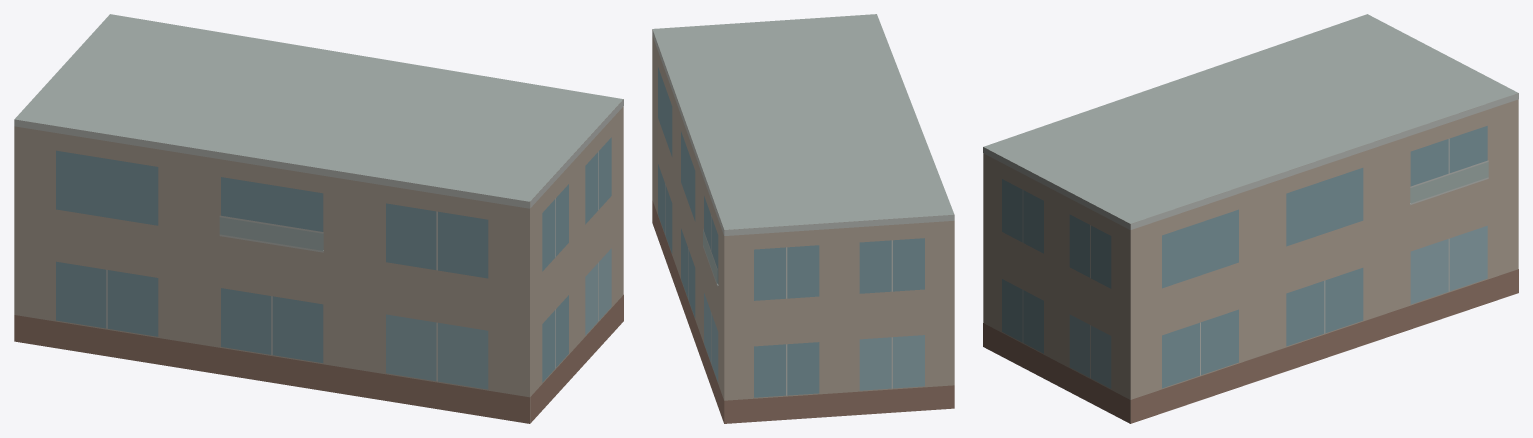
The model's file is survey-upis-32501346.glb.
The picture shows the model from 3 angles, left to right: view 1: azimuth 30°, elevation 25°; view 2: azimuth 150°, elevation 25°; view 3: azimuth 270°, elevation 25°; orthographic projection. The views are drawn at different scales.
Visible parts, largest first — view 1: survey-upis-32501346.tmp; view 2: survey-upis-32501346.tmp; view 3: survey-upis-32501346.tmp.
Boxes of the visible parts, left/top/right/bottom form: survey-upis-32501346.tmp: left=14, top=14, right=623, bottom=423; survey-upis-32501346.tmp: left=652, top=14, right=954, bottom=423; survey-upis-32501346.tmp: left=983, top=14, right=1518, bottom=423.
Size of the model in its own units: 17.57 by 7.8 by 18.94.
